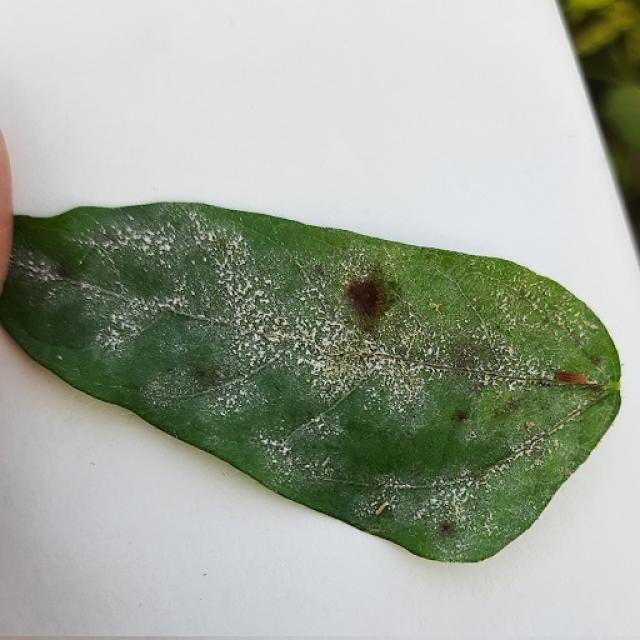Blackgram: (0, 204, 619, 560)
Powdery_Mildew: (318, 327, 430, 409), (416, 291, 521, 376), (231, 289, 333, 369), (91, 274, 175, 350), (183, 226, 269, 292), (273, 420, 348, 480), (479, 277, 552, 335), (211, 266, 277, 322), (309, 344, 371, 394), (12, 244, 70, 286), (338, 247, 385, 282), (124, 226, 175, 255), (217, 383, 257, 414), (441, 484, 473, 520), (518, 433, 547, 459), (102, 328, 128, 352), (266, 435, 294, 457), (165, 296, 185, 310), (495, 461, 509, 474), (512, 448, 525, 461), (103, 239, 116, 251), (312, 416, 325, 427), (240, 341, 252, 352), (586, 321, 600, 330), (115, 230, 126, 241), (459, 488, 469, 499), (259, 436, 270, 446), (207, 232, 217, 242), (426, 346, 436, 356), (318, 422, 328, 431), (416, 509, 425, 519), (26, 259, 36, 268), (110, 314, 119, 323), (115, 314, 124, 323), (270, 439, 280, 447), (430, 497, 439, 505), (271, 456, 279, 464), (202, 256, 208, 263), (57, 354, 64, 360)
